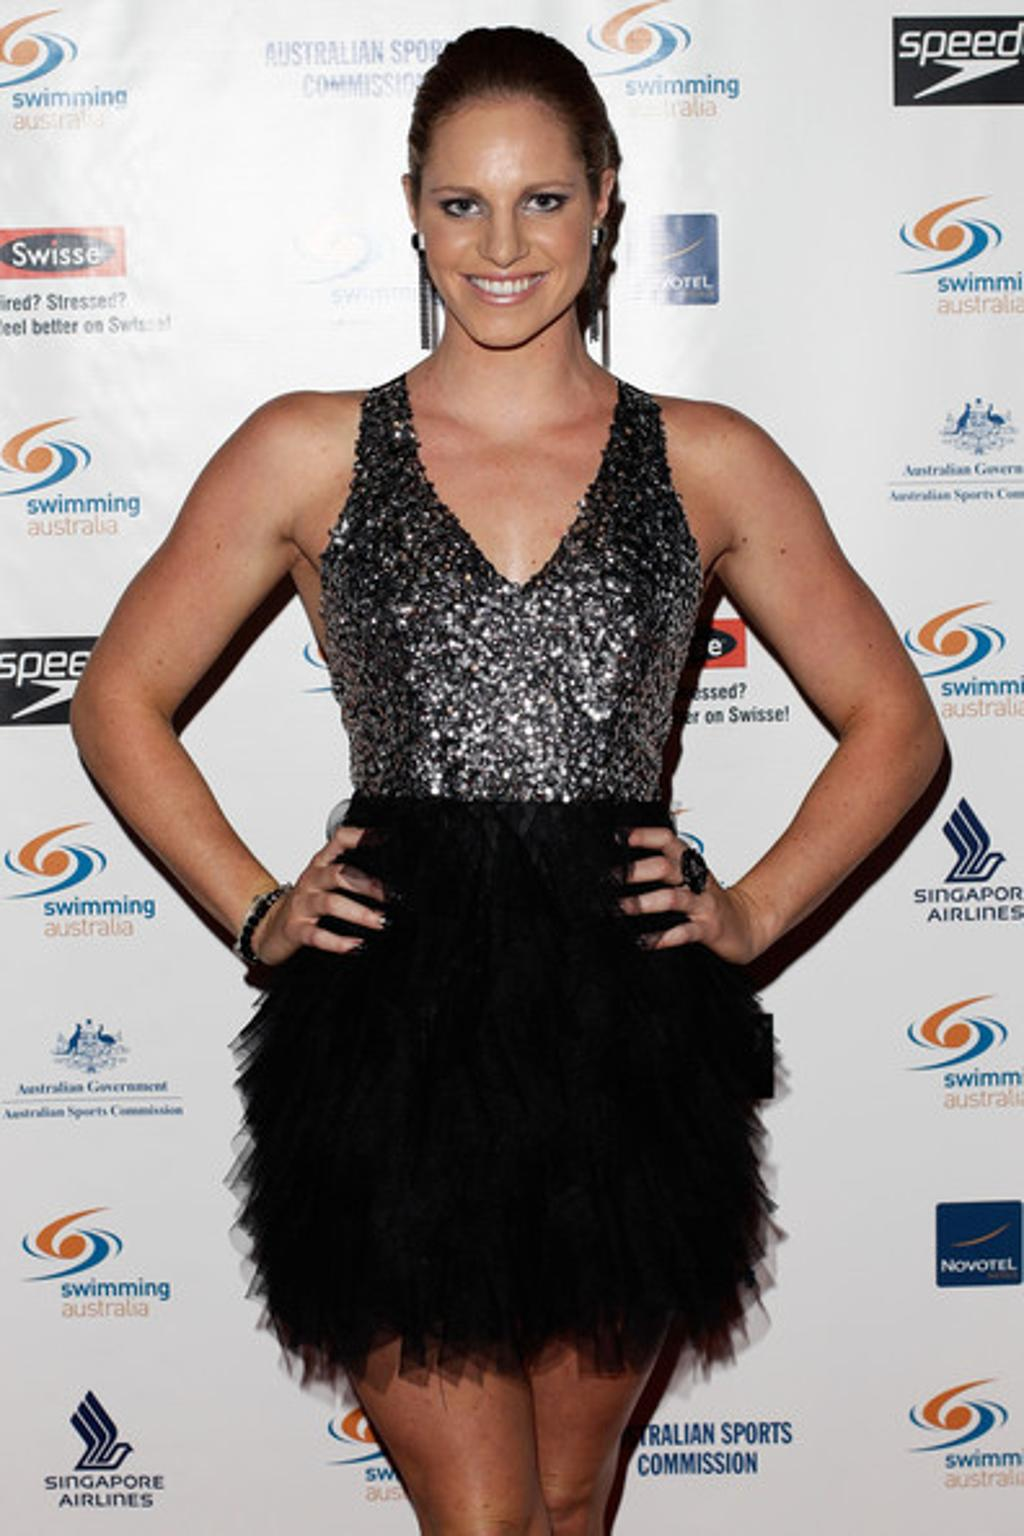face: (423, 117, 591, 345)
